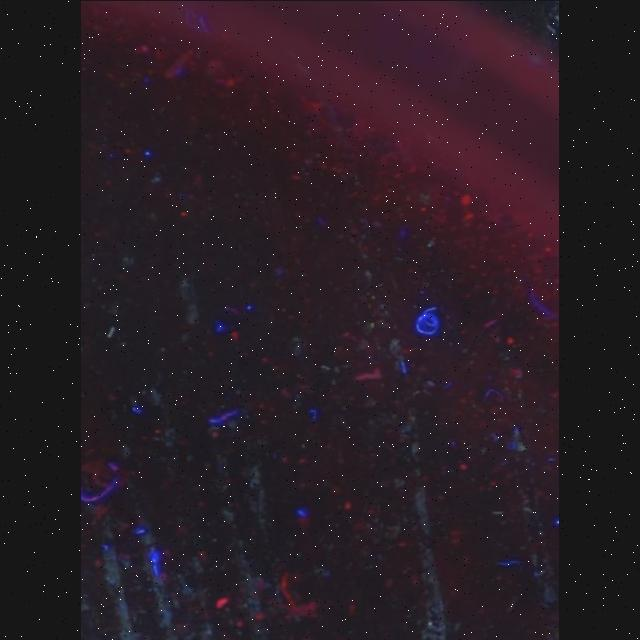microbeads: (107, 325, 115, 336)
